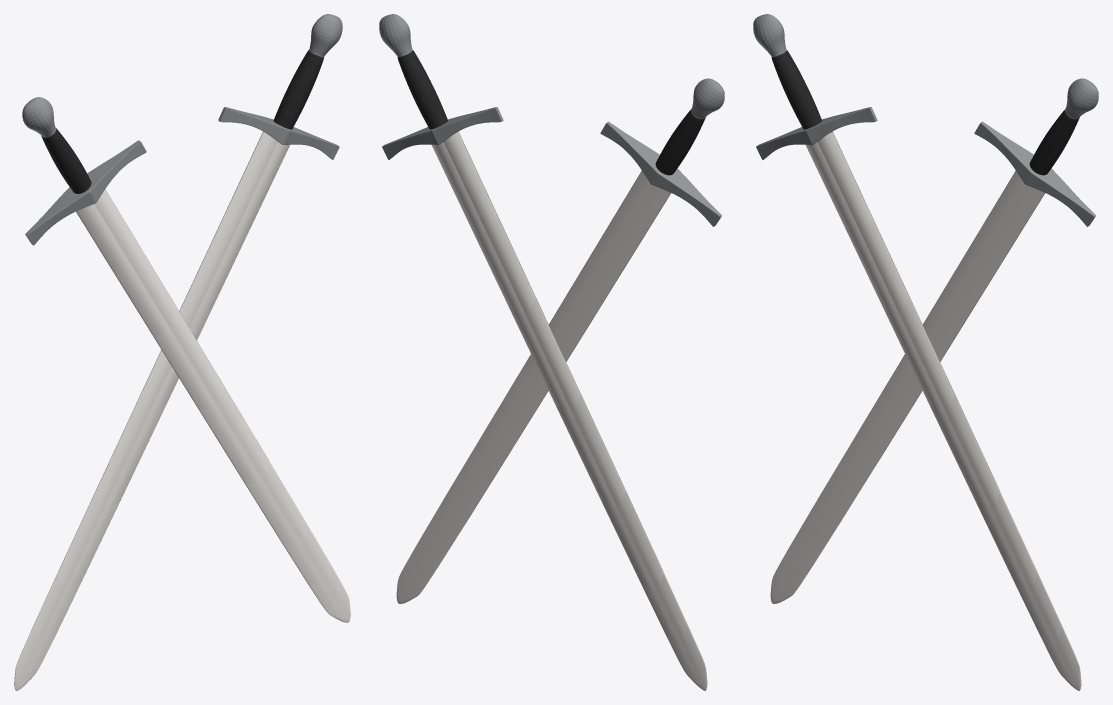
File: Duel_Weapons.fbx
3 views of the same model, side by side, from view 1: azimuth 30°, elevation 25°; view 2: azimuth 150°, elevation 25°; view 3: azimuth 330°, elevation 25° (orthographic).
Parts seen in each view (by area): view 1: Sword.1, Sword.2; view 2: Sword.2, Sword.1; view 3: Sword.1, Sword.2.
Part boxes in pixels (x1,y1,x2,y2): Sword.1: [22, 97, 350, 622]; Sword.2: [14, 14, 342, 690]; Sword.2: [379, 14, 707, 690]; Sword.1: [396, 78, 724, 603]; Sword.1: [753, 14, 1081, 690]; Sword.2: [770, 78, 1098, 603].
Bounding box in the file's own units: 283 × 489 × 40.22.
